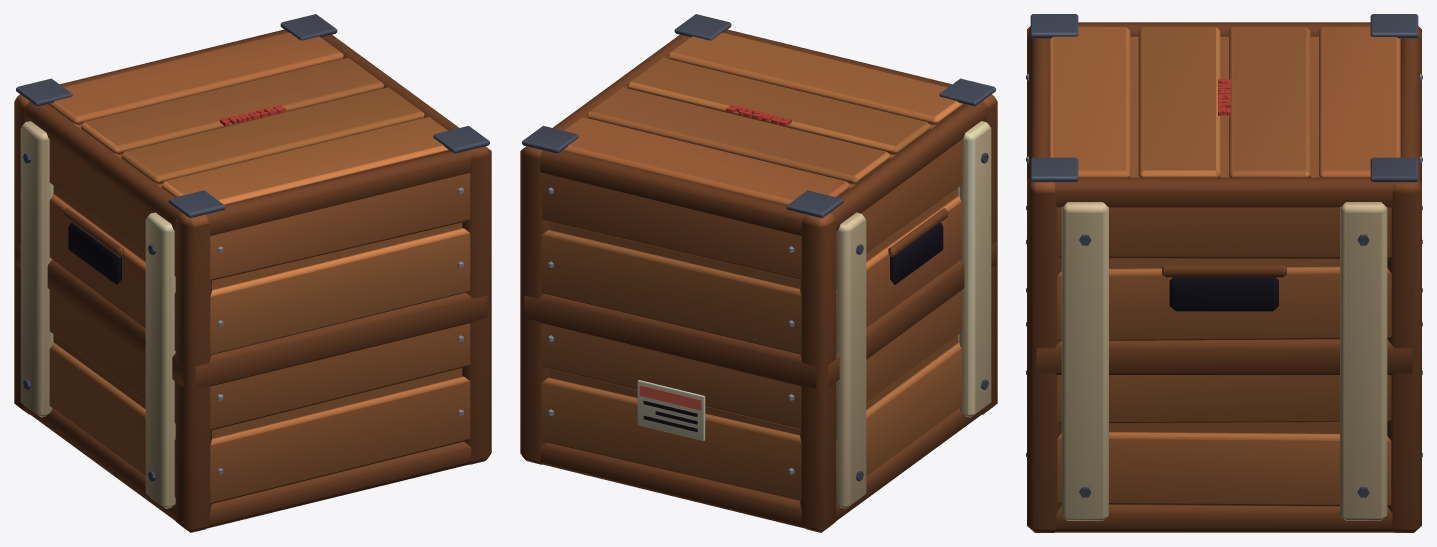
Rendered from SM_Prop_WoodCrate.fbx.
The picture shows the model from 3 angles, left to right: view 1: azimuth 30°, elevation 25°; view 2: azimuth 150°, elevation 25°; view 3: azimuth 270°, elevation 25°; orthographic projection. The views are drawn at different scales.
Visible parts, largest first — view 1: SM_Prop_WoodCrate; view 2: SM_Prop_WoodCrate; view 3: SM_Prop_WoodCrate.
Part boxes in pixels (x1=…): SM_Prop_WoodCrate: x1=14, y1=14, x2=491, y2=532; SM_Prop_WoodCrate: x1=520, y1=14, x2=997, y2=532; SM_Prop_WoodCrate: x1=1026, y1=14, x2=1422, y2=532.
Bounding box in the file's own units: 110 × 102 × 103.
